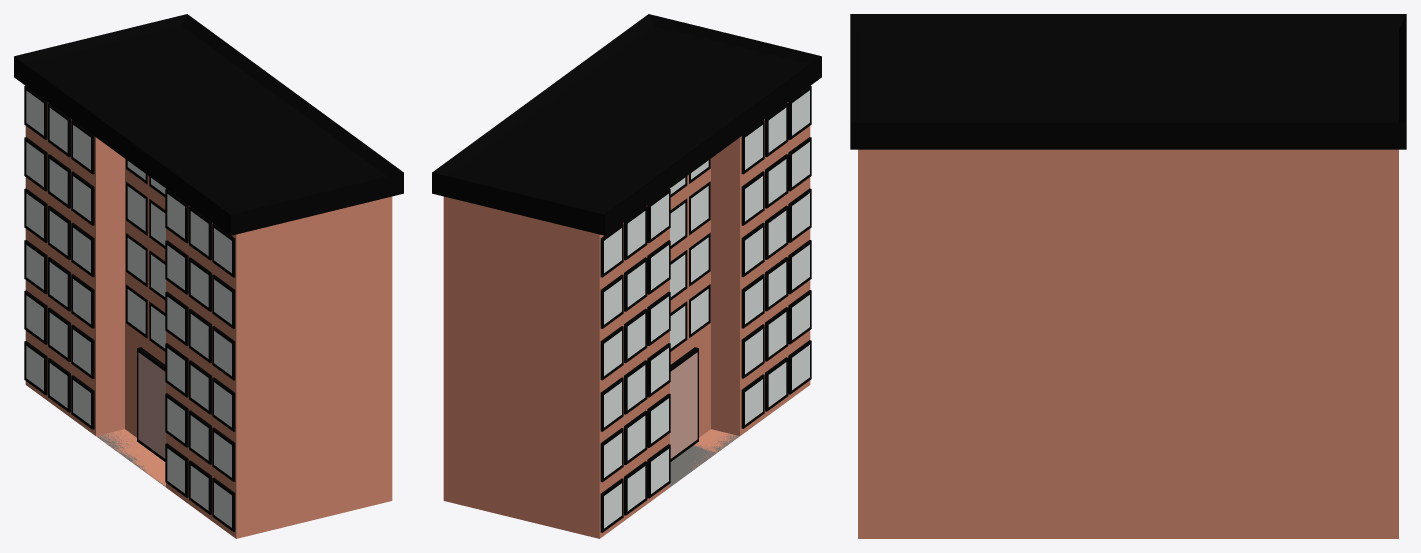
Rendered from EdificioApartamento1.fbx.
3 views of the same model, side by side, from view 1: azimuth 30°, elevation 25°; view 2: azimuth 150°, elevation 25°; view 3: azimuth 270°, elevation 25° (orthographic). The views are drawn at different scales.
Visible parts, largest first — view 1: Cube, Cube.002, Cube.004, Cube.005, Cube.003, Cube.001, Cube.006; view 2: Cube, Cube.005, Cube.004, Cube.003, Cube.002, Cube.001, Cube.006; view 3: Cube.
Part boxes in pixels (x1=…): Cube: x1=14, y1=14, x2=403, y2=538; Cube.002: x1=165, y1=189, x2=235, y2=427; Cube.004: x1=24, y1=240, x2=94, y2=429; Cube.005: x1=165, y1=343, x2=235, y2=531; Cube.003: x1=24, y1=86, x2=94, y2=277; Cube.001: x1=126, y1=159, x2=165, y2=351; Cube.006: x1=137, y1=347, x2=165, y2=461; Cube: x1=432, y1=14, x2=821, y2=538; Cube.005: x1=741, y1=240, x2=811, y2=428; Cube.004: x1=600, y1=343, x2=670, y2=532; Cube.003: x1=600, y1=189, x2=670, y2=396; Cube.002: x1=741, y1=86, x2=811, y2=324; Cube.001: x1=670, y1=159, x2=710, y2=351; Cube.006: x1=670, y1=347, x2=698, y2=461; Cube: x1=850, y1=14, x2=1406, y2=538.
Size of the model in its own units: 222 by 402 by 481.
